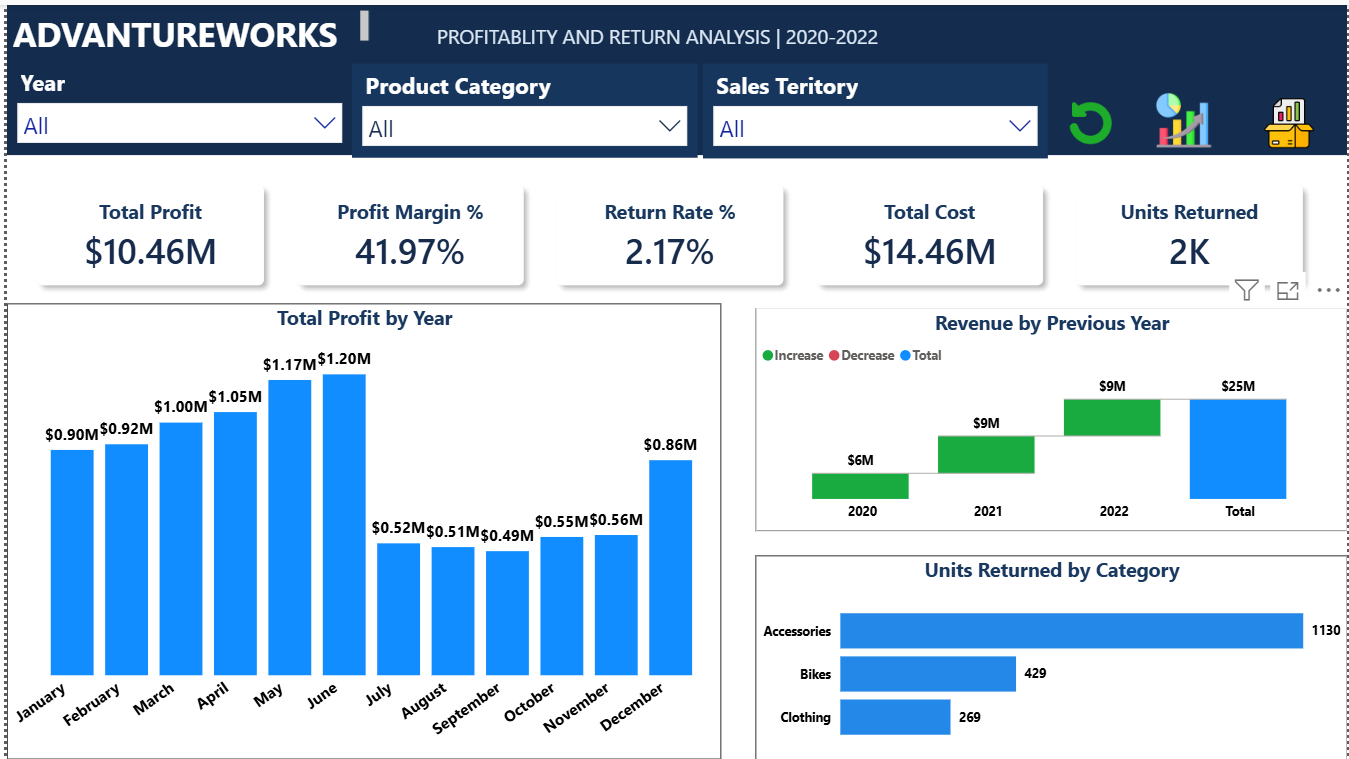

What the dashboard file says about the page in this screenshot:
{"tool":"powerbi","page":{"name":"Profitablity and Return Analysis","canvas":[1280,720],"ordinal":2},"visuals":[{"type":"cardVisual","fields":{"Data":["_KPIs.Total Profit","_KPIs.Profit Margin %","_KPIs.Return Rate %","_KPIs.Total Cost","_KPIs.Total Units Returned"]},"box":[0,143.3,1270,153.3],"z":0},{"type":"clusteredBarChart","title":"Units Returned by Category","fields":{"Category":["Categories Lookup.CategoryName"],"Y":["_KPIs.Total Units Returned"]},"box":[715,525,565,195],"z":1000},{"type":"waterfallChart","title":"Revenue by Previous Year","fields":{"Category":["Calendar Lookup.Date.Variation.Date Hierarchy.Year"],"Y":["_KPIs.Total Revenue"]},"box":[715,290,565,213.3],"z":3000},{"type":"clusteredColumnChart","title":"Total Profit by Year","fields":{"Category":["Calendar Lookup.Date.Variation.Date Hierarchy.Month"],"Y":["_KPIs.Total Profit"]},"box":[0,285,681.7,435],"z":4000},{"type":"shape","title":"AdvantureWork","box":[0,0,1280,143.3],"z":5000},{"type":"textbox","box":[405,11.7,520,41.7],"z":6000},{"type":"textbox","box":[0,0,350,45],"z":7000},{"type":"slicer","fields":{"Values":["Calendar Lookup.Date.Variation.Date Hierarchy.Year"]},"box":[0,53.3,330,90],"z":8000},{"type":"slicer","fields":{"Values":["Categories Lookup.CategoryName"]},"box":[329.3,55.7,330,90],"z":9000},{"type":"slicer","fields":{"Values":["Territory Lookup.Region"]},"box":[664.9,55.7,329.3,90.7],"z":10000},{"type":"image","box":[997.3,89.1,76.3,47.7],"z":10001},{"type":"image","box":[1073.7,82.7,98.6,54.1],"z":10002},{"type":"image","box":[1178.6,89.1,90.7,47.7],"z":10003}]}

Visuals, with their boxes in screenshot pixels (x1, y1, x2, y2), scaled from the page's 1280x720 canvas onto the 1349x759 screenshot:
cardVisual - _KPIs.Total Profit x _KPIs.Profit Margin %: BBox(0, 151, 1338, 313)
"Units Returned by Category" clusteredBarChart: BBox(754, 553, 1348, 758)
"Revenue by Previous Year" waterfallChart: BBox(754, 306, 1348, 531)
"Total Profit by Year" clusteredColumnChart: BBox(0, 300, 718, 758)
"AdvantureWork" shape: BBox(0, 0, 1348, 151)
textbox: BBox(427, 12, 975, 56)
textbox: BBox(0, 0, 369, 47)
slicer - Calendar Lookup.Date.Variation.Date Hierarchy.Year: BBox(0, 56, 348, 151)
slicer - Categories Lookup.CategoryName: BBox(347, 59, 695, 154)
slicer - Territory Lookup.Region: BBox(701, 59, 1048, 154)
image: BBox(1051, 94, 1131, 144)
image: BBox(1132, 87, 1235, 144)
image: BBox(1242, 94, 1338, 144)
